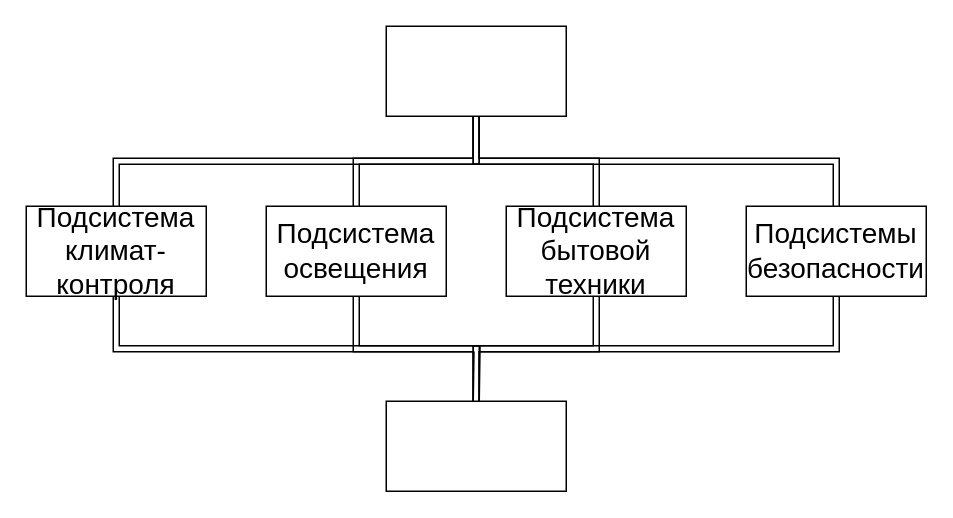
This 953x518 diagram has some shape labels left out. Each missing label, with the centre of its shape:
Модуль сети петри: the point at 475,70
модуль умного дома: the point at 475,445
